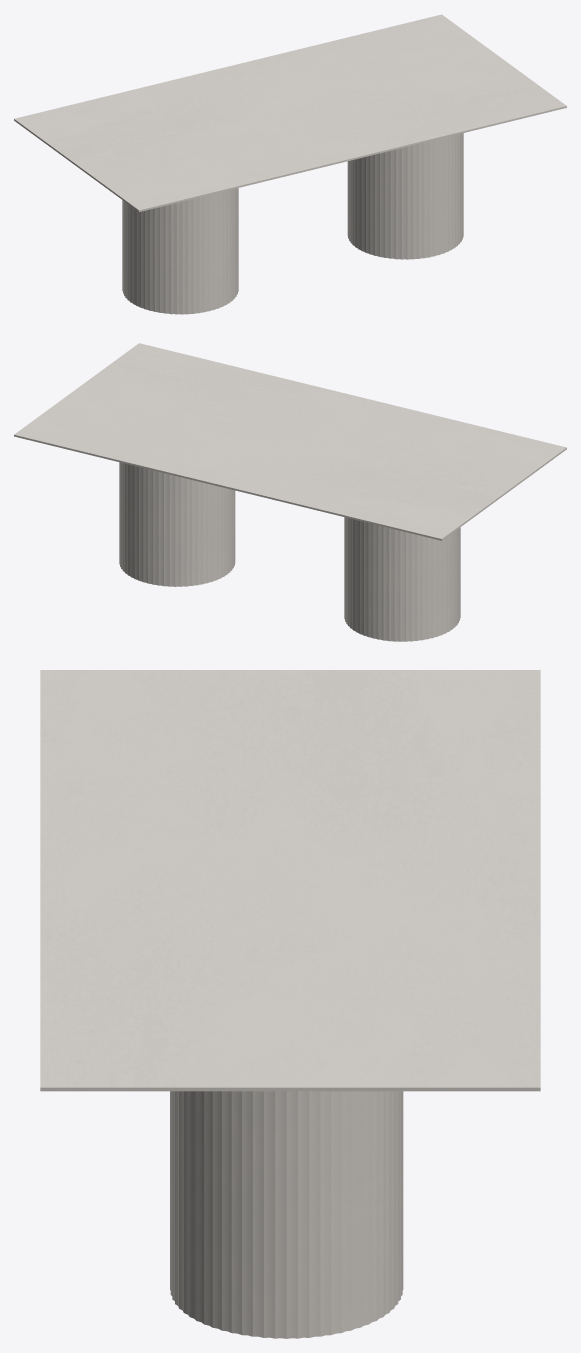
Rendered from purewhite_recta_facet_ripplesecond.glb.
3 renders of one model, top to bottom at view 1: azimuth 30°, elevation 25°; view 2: azimuth 150°, elevation 25°; view 3: azimuth 270°, elevation 25°, orthographic. The views are drawn at different scales.
Visible parts, largest first — view 1: facet_recta, ripplesecond; view 2: facet_recta, ripplesecond; view 3: facet_recta, ripplesecond.
Boxes of the visible parts, box(x1,y1,x2,y2) form: facet_recta: box(14, 14, 566, 211); ripplesecond: box(122, 133, 463, 314); facet_recta: box(14, 343, 566, 540); ripplesecond: box(119, 462, 460, 641); facet_recta: box(40, 670, 540, 1091); ripplesecond: box(170, 1091, 403, 1338).
Bounding box in the file's own units: 7.5 × 2.51 × 3.8.
Materials: 1 (1 with a texture image).
